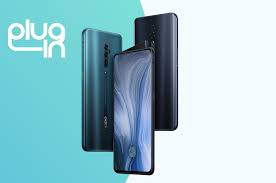oppo: (110, 46, 159, 175)
